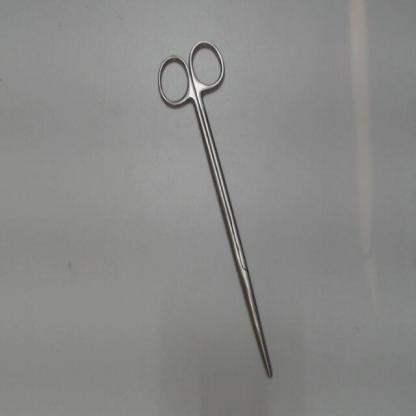9 Metzenbaum Scissors: (150, 32, 278, 386)
